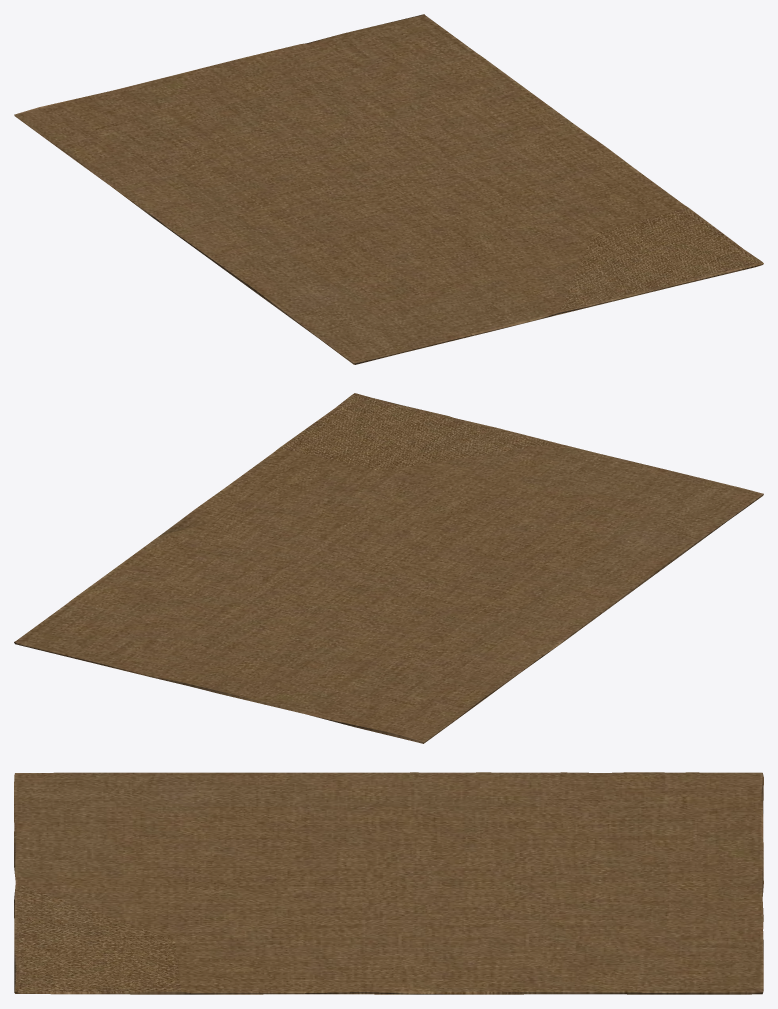
3 views of the same model, one above another, from view 1: azimuth 30°, elevation 25°; view 2: azimuth 150°, elevation 25°; view 3: azimuth 270°, elevation 25° (orthographic). The views are drawn at different scales.
Visible parts, largest first — view 1: PRT_1oen8tgo_P01_S01_NV01; view 2: PRT_1oen8tgo_P01_S01_NV01; view 3: PRT_1oen8tgo_P01_S01_NV01.
Boxes of the visible parts, <box> form: PRT_1oen8tgo_P01_S01_NV01: <box>14,14,763,364</box>; PRT_1oen8tgo_P01_S01_NV01: <box>14,393,763,743</box>; PRT_1oen8tgo_P01_S01_NV01: <box>14,772,763,994</box>.
Size of the model in its own units: 1.6 by 0.0121 by 2.3.
1 material, 1 textured.
